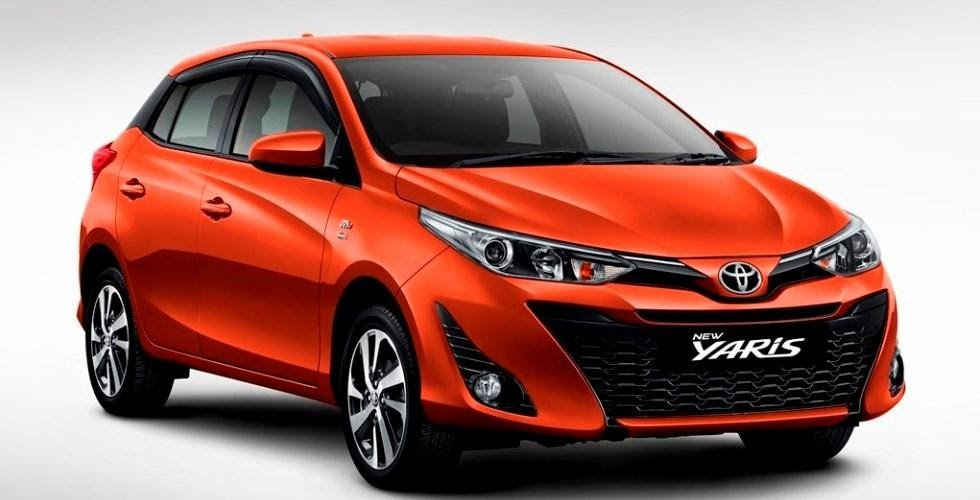mobil: (50, 26, 907, 461)
